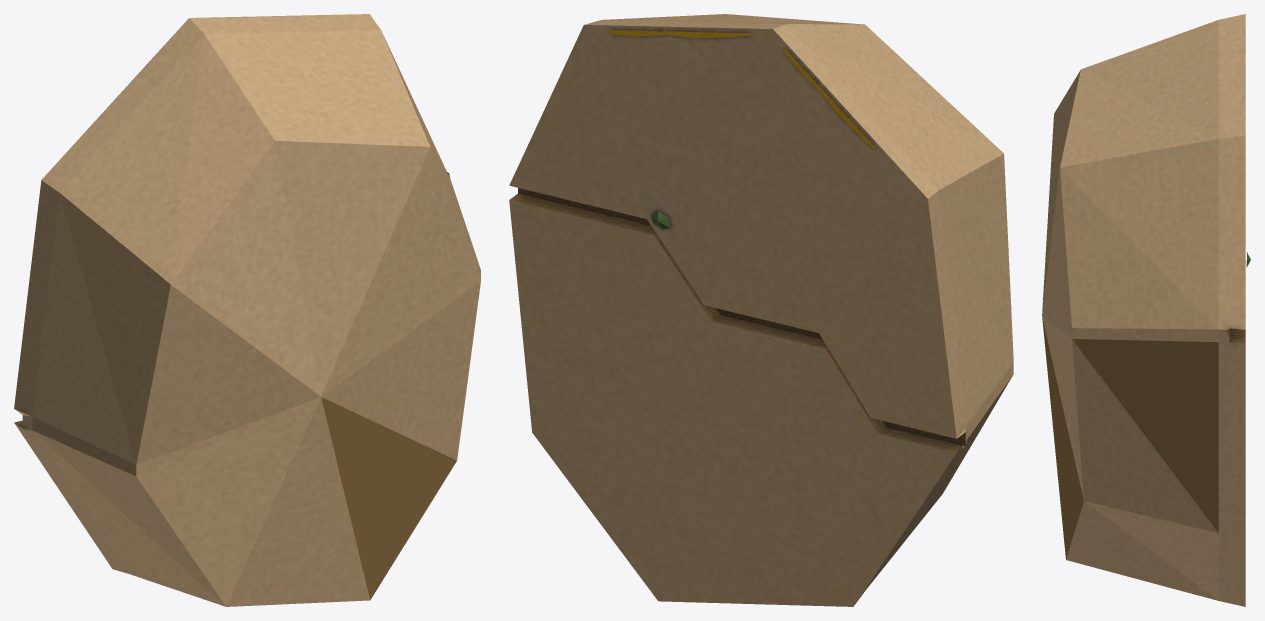
The picture shows the model from 3 angles, left to right: view 1: azimuth 30°, elevation 25°; view 2: azimuth 150°, elevation 25°; view 3: azimuth 270°, elevation 25°; orthographic projection. The views are drawn at different scales.
Visible parts, largest first — view 1: Warm_dusty_sandstone, Sandstone_groove_and_fractures; view 2: Warm_dusty_sandstone, Sandstone_groove_and_fractures, Thin_hammered_gold_leaf; view 3: Warm_dusty_sandstone, Sandstone_groove_and_fractures.
Boxes of the visible parts, x1,y1,x2,y2 form: Warm_dusty_sandstone: (14, 14, 480, 606); Sandstone_groove_and_fractures: (14, 172, 456, 599); Warm_dusty_sandstone: (509, 14, 1013, 606); Sandstone_groove_and_fractures: (509, 188, 965, 453); Thin_hammered_gold_leaf: (609, 30, 875, 148); Warm_dusty_sandstone: (1042, 14, 1245, 606); Sandstone_groove_and_fractures: (1042, 316, 1245, 558).
Size of the model in its own units: 0.78 by 1 by 0.349.
4 materials, 4 textured.
